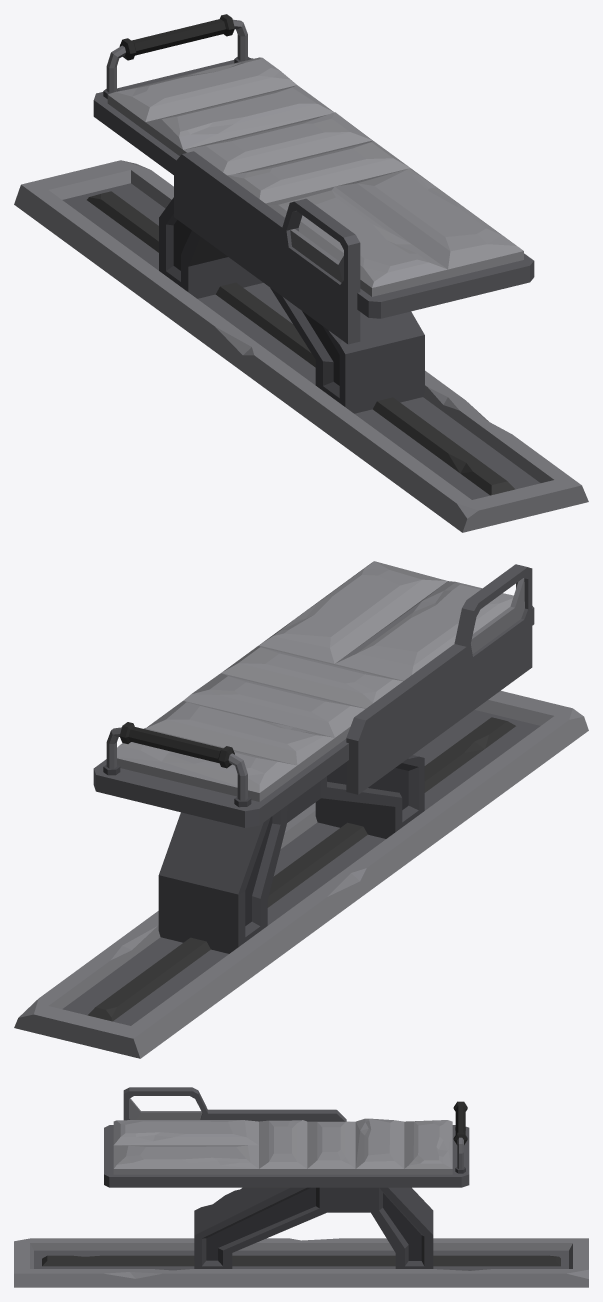
Rendered from SM_Prop_Bed_Medical_01.glb.
The picture shows the model from 3 angles, top to bottom: view 1: azimuth 30°, elevation 25°; view 2: azimuth 150°, elevation 25°; view 3: azimuth 270°, elevation 25°; orthographic projection. The views are drawn at different scales.
Parts seen in each view (by area): view 1: SM_Prop_Bed_Medical_Slide_01, SM_Prop_Bed_Medical_01; view 2: SM_Prop_Bed_Medical_Slide_01, SM_Prop_Bed_Medical_01; view 3: SM_Prop_Bed_Medical_Slide_01, SM_Prop_Bed_Medical_01.
Boxes of the visible parts, x1=… form: SM_Prop_Bed_Medical_Slide_01: x1=93, y1=14, x2=534, y2=413; SM_Prop_Bed_Medical_01: x1=14, y1=160, x2=588, y2=532; SM_Prop_Bed_Medical_Slide_01: x1=93, y1=561, x2=534, y2=953; SM_Prop_Bed_Medical_01: x1=14, y1=690, x2=588, y2=1058; SM_Prop_Bed_Medical_Slide_01: x1=104, y1=1087, x2=469, y2=1268; SM_Prop_Bed_Medical_01: x1=14, y1=1238, x2=588, y2=1287.
Size of the model in its own units: 0.8303 by 1.07 by 3.69.
1 material, 1 textured.
